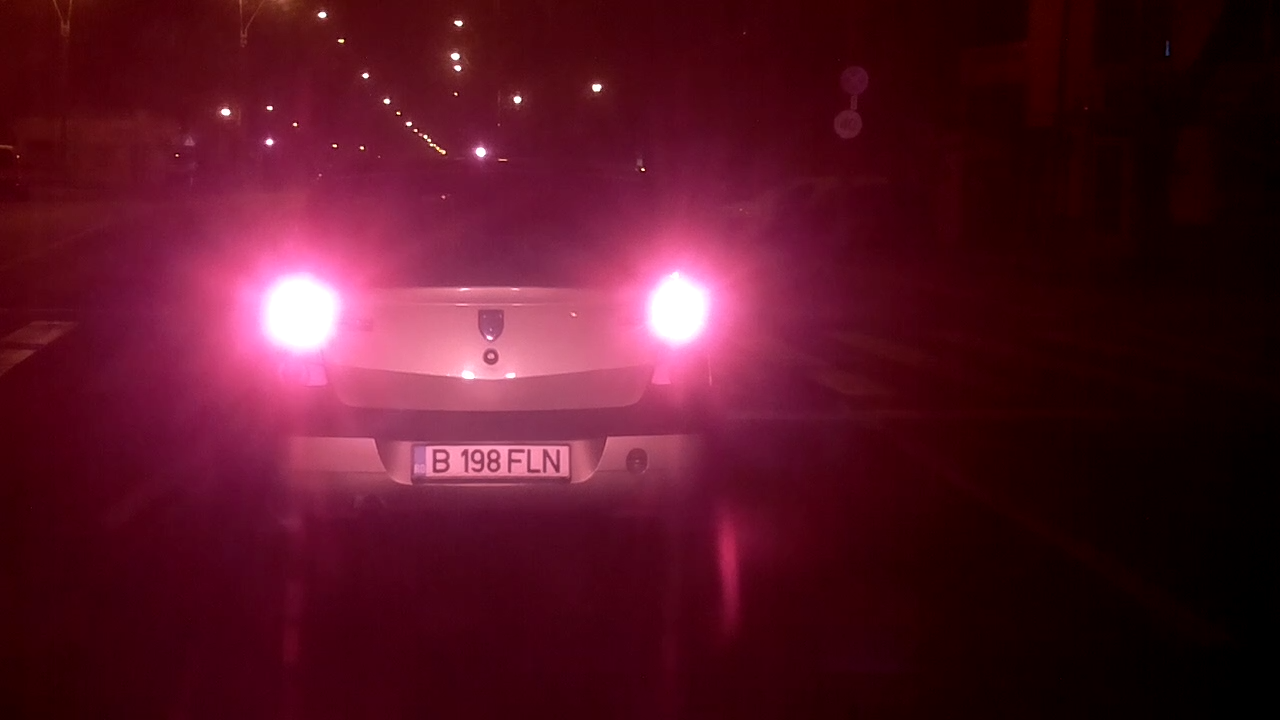license-plate: (405, 438, 578, 486)
